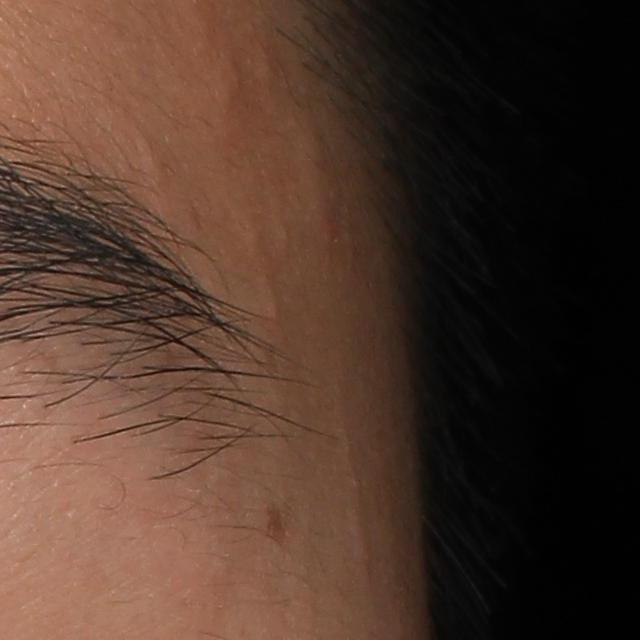nevus: (263, 504, 287, 546)
